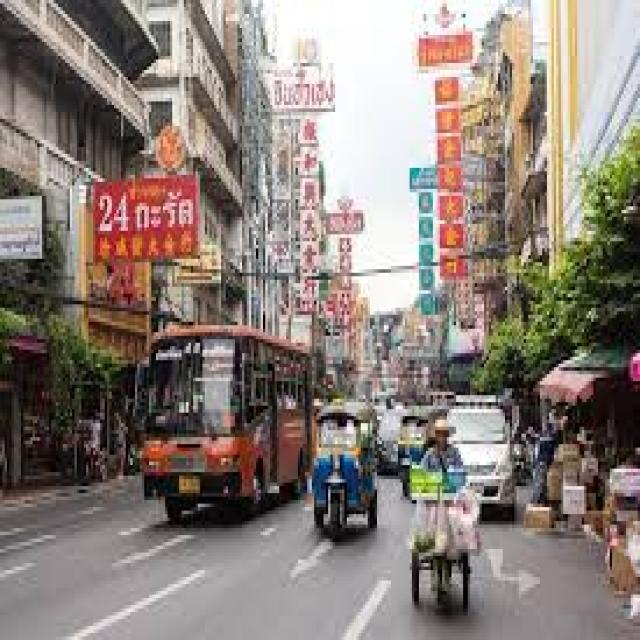bus: (141, 302, 310, 530)
tuktuk: (310, 396, 381, 548), (396, 403, 432, 455)
